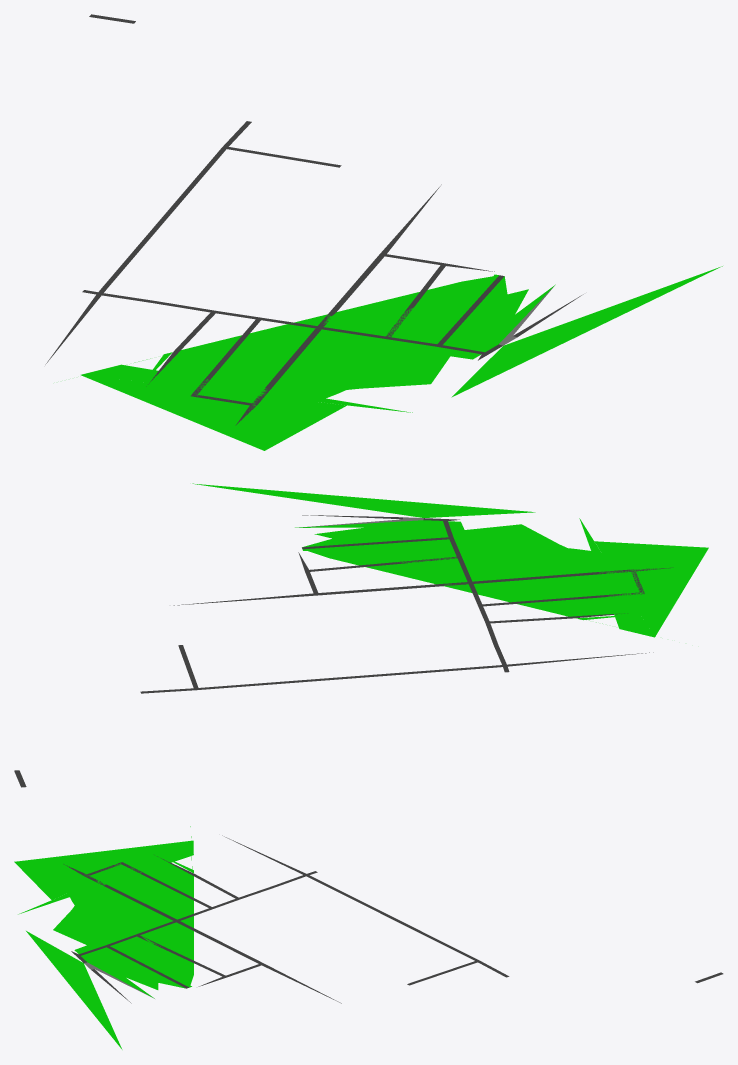
3 views of the same model, one above another, from view 1: azimuth 30°, elevation 25°; view 2: azimuth 150°, elevation 25°; view 3: azimuth 270°, elevation 25° (orthographic). The views are drawn at different scales.
Size of the model in its own units: 467 by 0 by 599.
